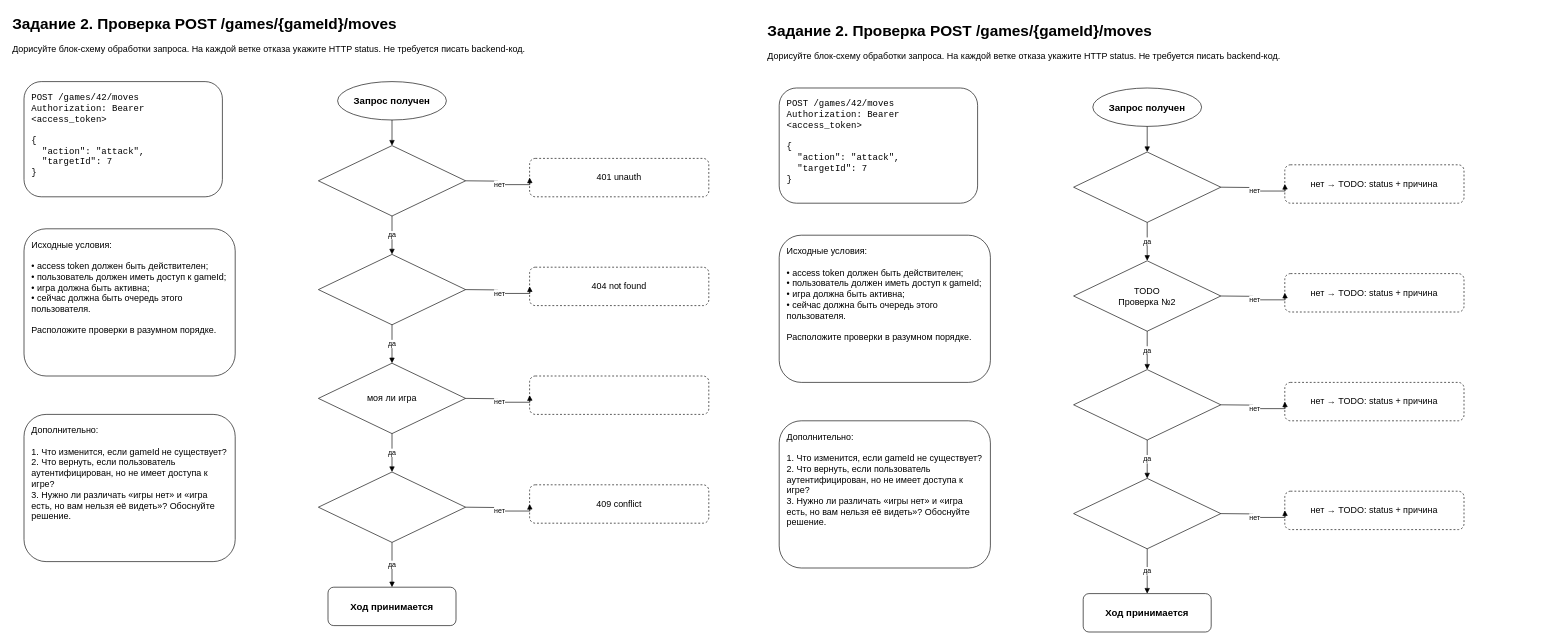
The diagram is 1545 pixels wide and 643 high, and some of its shapes have lost their labels. Each missing label, with the centre of its shape:
"403 forbidden" goes at (619,394).
"TODO Проверка №1" goes at (1147,186).
"TODO Проверка №3" goes at (1147,404).
"TODO Проверка №4" goes at (1147,513).
"активна ли игра и я ли хожу" goes at (392,506).
"есть ли игра" goes at (392,289).
"проверка access token" goes at (392,180).
